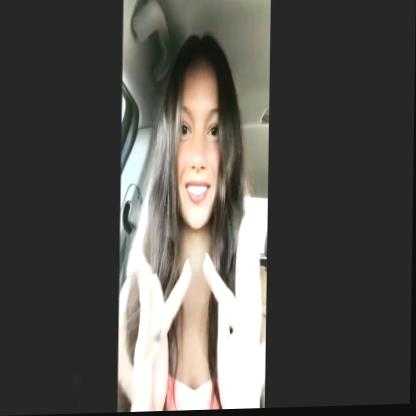Internet: (127, 218, 275, 413)
